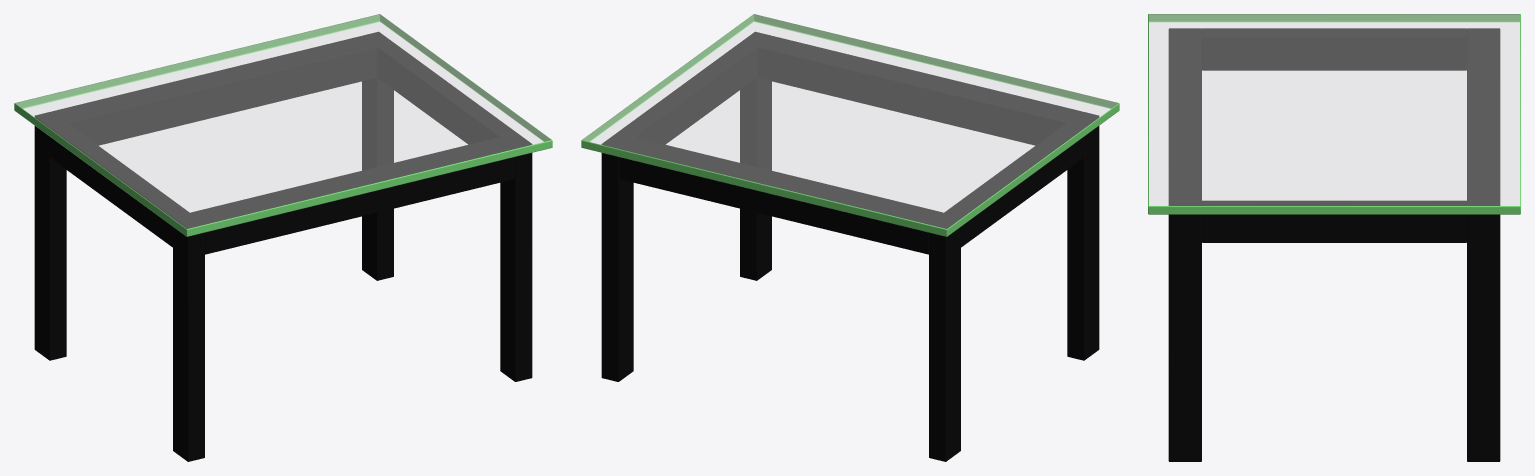
The model's file is A.Mesa.03.Cuadrada.Metal.fbx.
3 renders of one model, left to right at view 1: azimuth 30°, elevation 25°; view 2: azimuth 150°, elevation 25°; view 3: azimuth 270°, elevation 25°, orthographic. The views are drawn at different scales.
Parts seen in each view (by area): view 1: A.Mesa.03.Cuadrada.Vidrio, A.Mesa.03.Cuadrada.Metal; view 2: A.Mesa.03.Cuadrada.Vidrio, A.Mesa.03.Cuadrada.Metal; view 3: A.Mesa.03.Cuadrada.Vidrio, A.Mesa.03.Cuadrada.Metal.
Boxes of the visible parts, left/top/right/bottom form: A.Mesa.03.Cuadrada.Vidrio: left=14, top=14, right=552, bottom=236; A.Mesa.03.Cuadrada.Metal: left=34, top=31, right=532, bottom=461; A.Mesa.03.Cuadrada.Vidrio: left=581, top=14, right=1119, bottom=236; A.Mesa.03.Cuadrada.Metal: left=601, top=31, right=1099, bottom=461; A.Mesa.03.Cuadrada.Vidrio: left=1148, top=14, right=1520, bottom=214; A.Mesa.03.Cuadrada.Metal: left=1168, top=28, right=1500, bottom=461.
Size of the model in its own units: 117 by 74 by 95.62.
